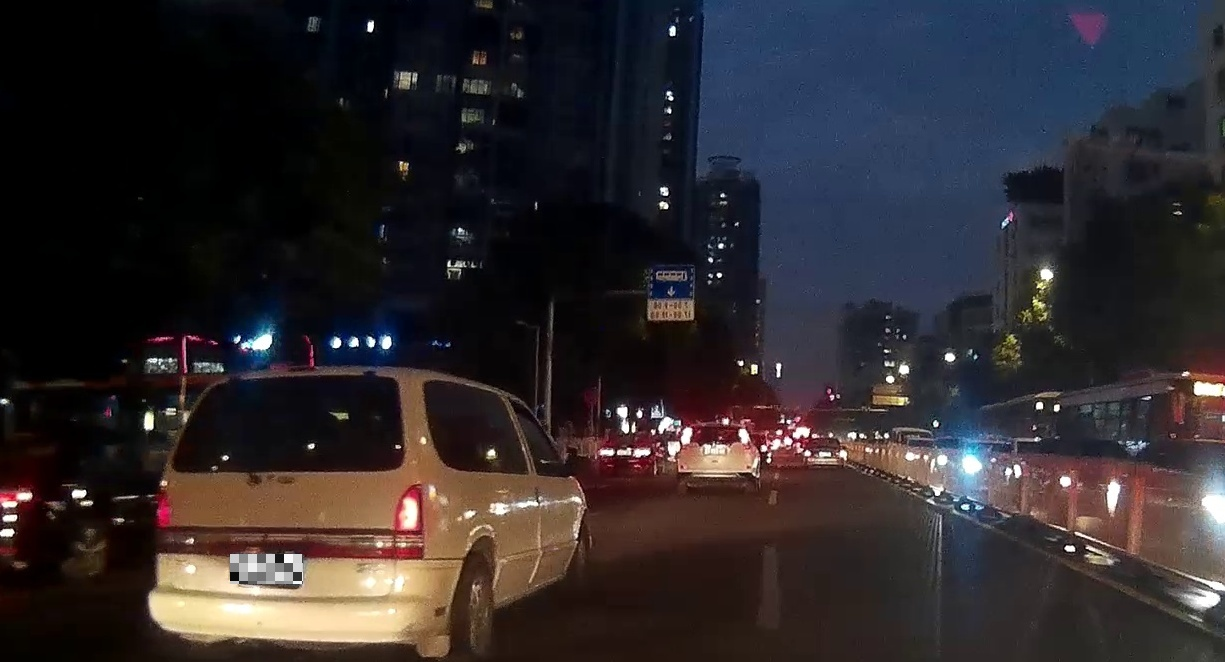L_light: (155, 488, 171, 526), (680, 427, 692, 445)
R_light: (393, 483, 422, 533), (738, 428, 749, 445)
T_light: (279, 376, 320, 385), (706, 426, 722, 429)
night-no: (678, 423, 751, 493)
night-right: (147, 366, 425, 662)
plate_1: (230, 554, 303, 584)
